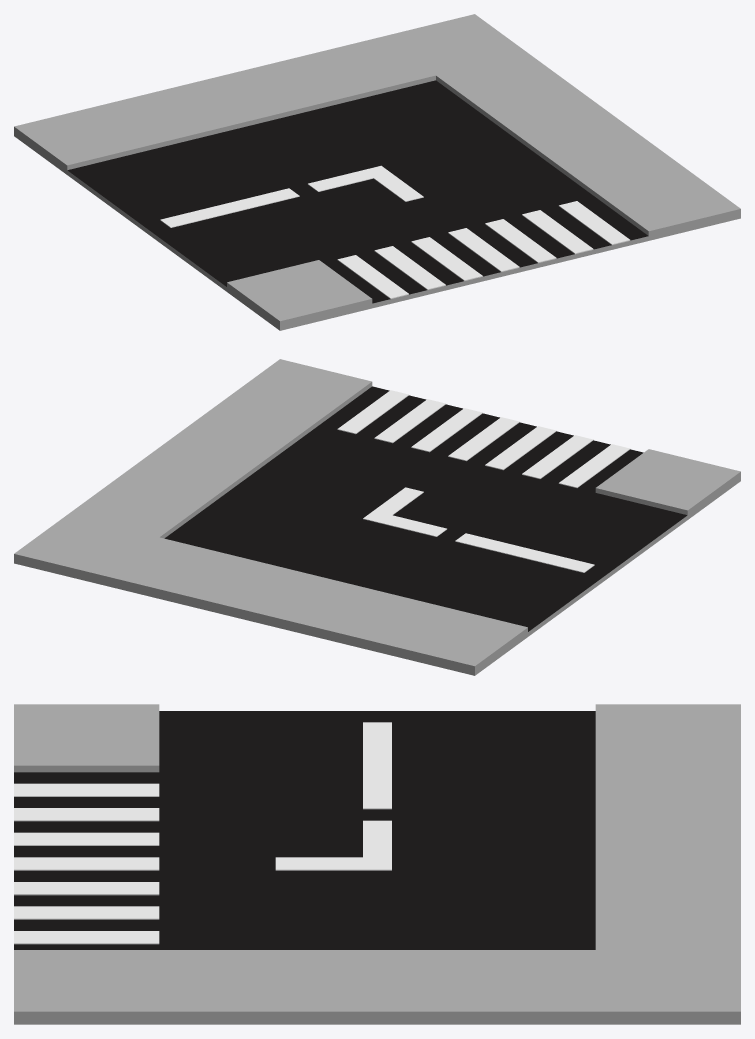
The model's file is Env_Road_Cornor_02.fbx.
The picture shows the model from 3 angles, top to bottom: view 1: azimuth 30°, elevation 25°; view 2: azimuth 150°, elevation 25°; view 3: azimuth 270°, elevation 25°; orthographic projection. The views are drawn at different scales.
Visible parts, largest first — view 1: Env_Road_Cornor_02; view 2: Env_Road_Cornor_02; view 3: Env_Road_Cornor_02.
Part boxes in pixels (x1,y1,x2,y2): Env_Road_Cornor_02: (14,14,740,330); Env_Road_Cornor_02: (14,359,740,675); Env_Road_Cornor_02: (14,704,740,1024).
Size of the model in its own units: 1000 by 20 by 1000.
